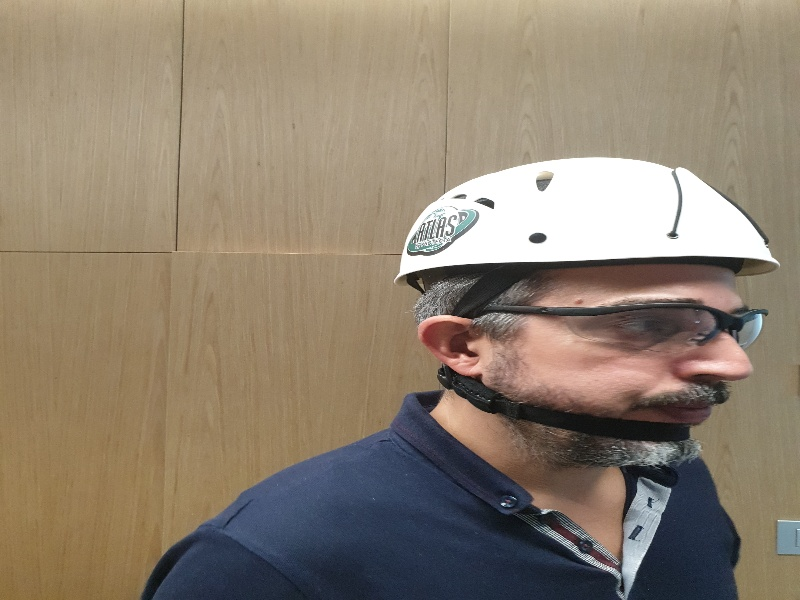Baret: (395, 157, 786, 280)
Gozluk: (490, 299, 771, 352)
